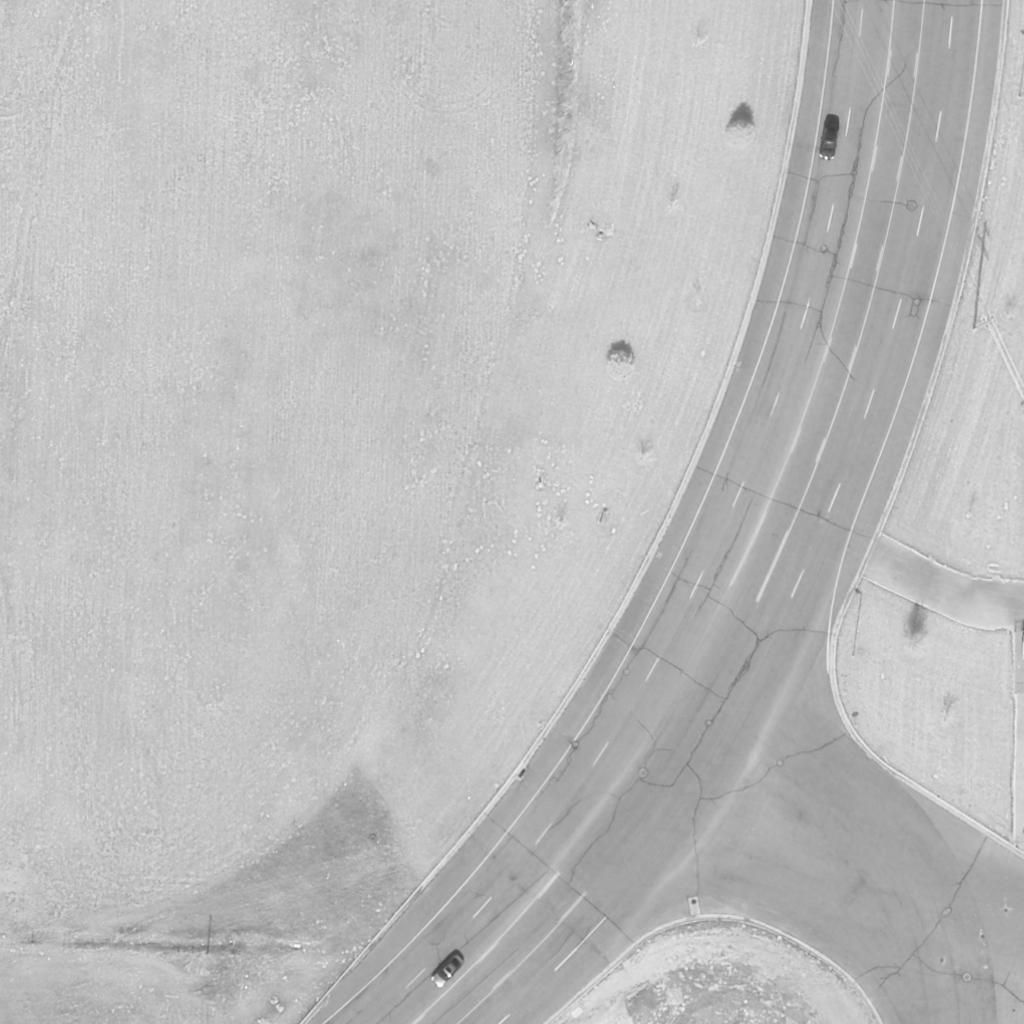vehicle: (428, 953, 466, 991), (817, 116, 841, 164)
